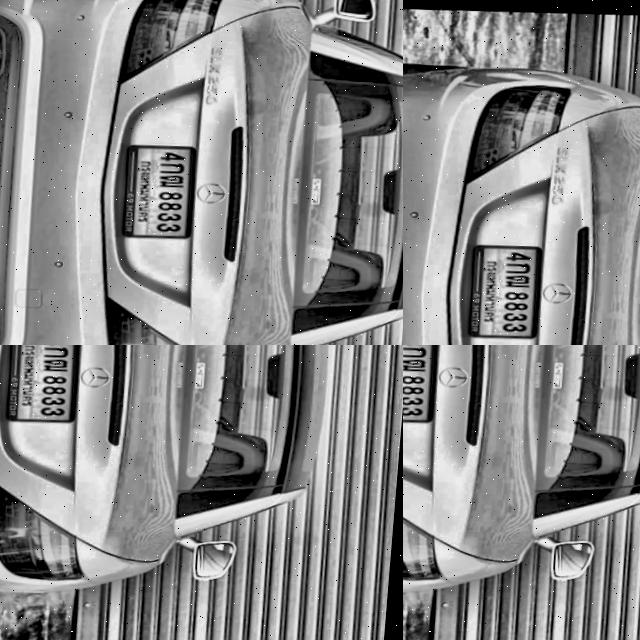license-plate: (403, 345, 446, 420)
